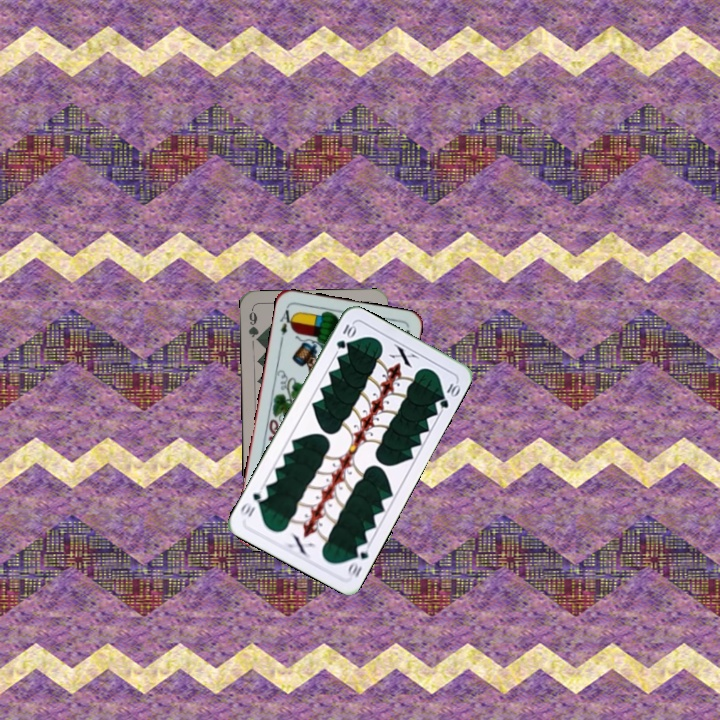EA: (276, 303, 297, 344)
G10: (344, 540, 372, 580), (332, 320, 358, 351)
G9: (244, 306, 263, 346)
